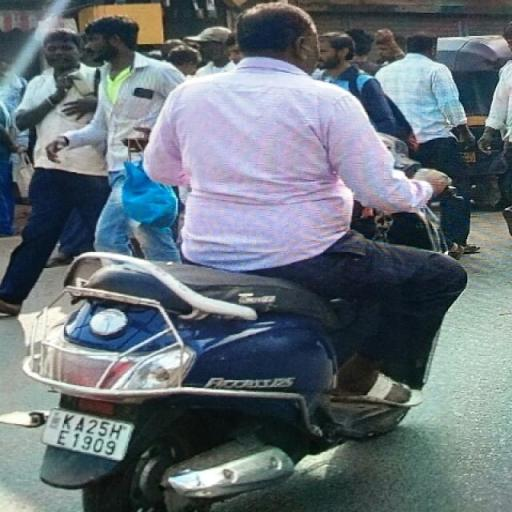bike: (20, 0, 482, 512)
numberplate: (39, 398, 135, 466)
withouthelmet: (237, 4, 313, 62)
